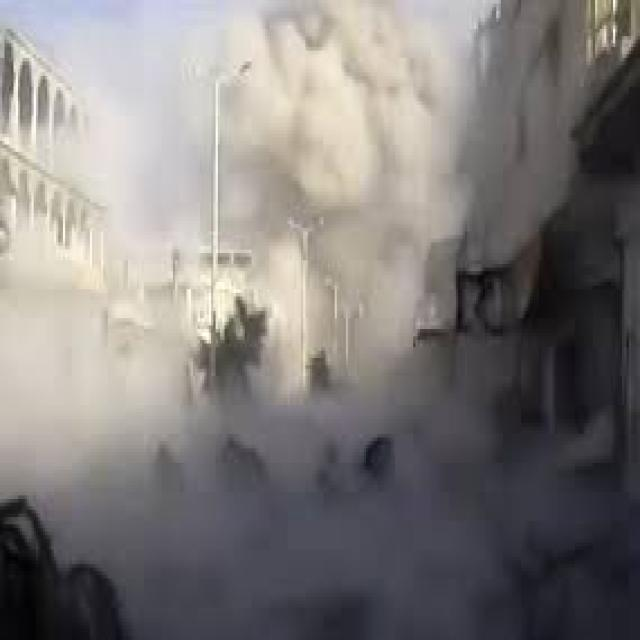Smoke: (180, 387, 636, 640), (0, 235, 162, 568), (222, 0, 451, 217)
